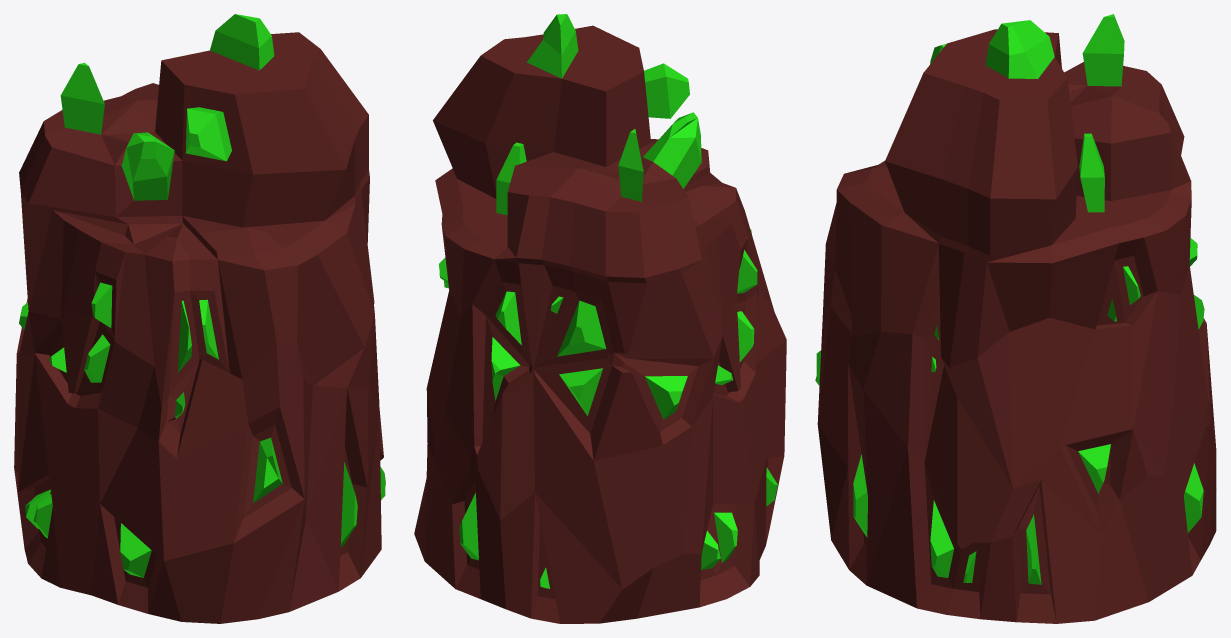
Rendered from Stone_3_Cup_ET.fbx.
3 renders of one model, left to right at view 1: azimuth 30°, elevation 25°; view 2: azimuth 150°, elevation 25°; view 3: azimuth 270°, elevation 25°, orthographic. The views are drawn at different scales.
Parts seen in each view (by area): view 1: Rock_3_Cup_ET; view 2: Rock_3_Cup_ET; view 3: Rock_3_Cup_ET.
Boxes of the visible parts, x1=… form: Rock_3_Cup_ET: x1=14, y1=14, x2=385, y2=623; Rock_3_Cup_ET: x1=414, y1=14, x2=786, y2=623; Rock_3_Cup_ET: x1=815, y1=14, x2=1216, y2=623.
Size of the model in its own units: 17.91 by 27.78 by 18.66.
